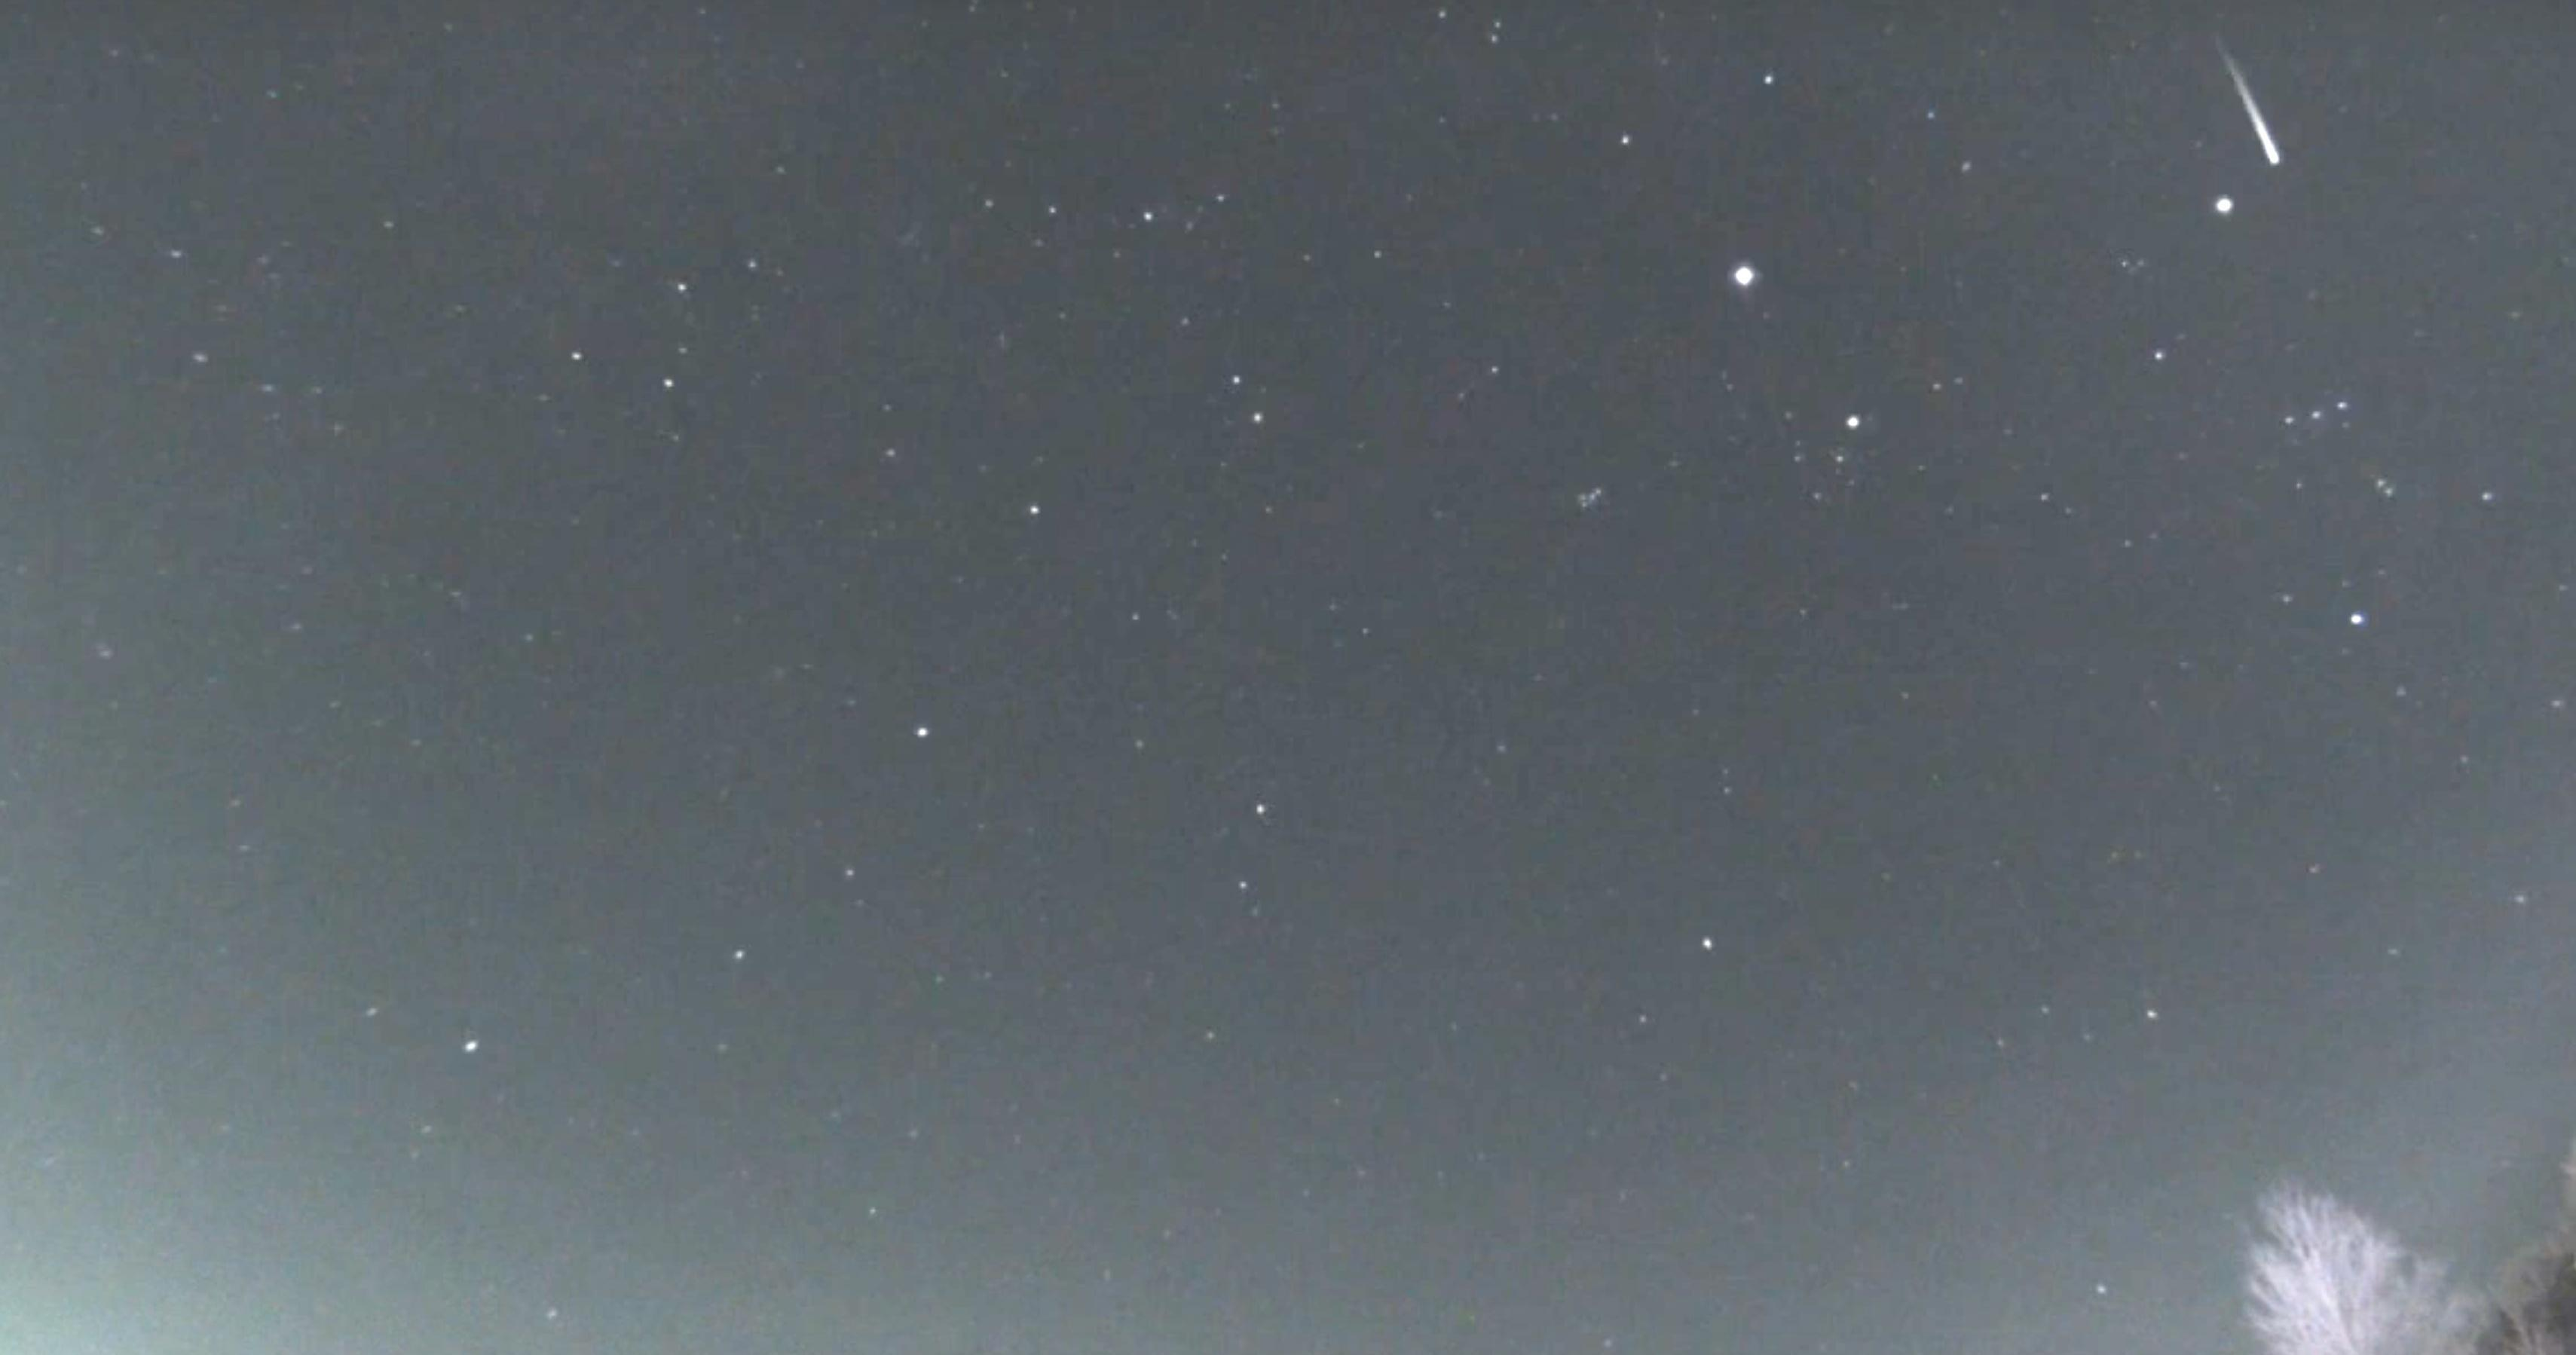meteorite: (2191, 12, 2315, 198)
